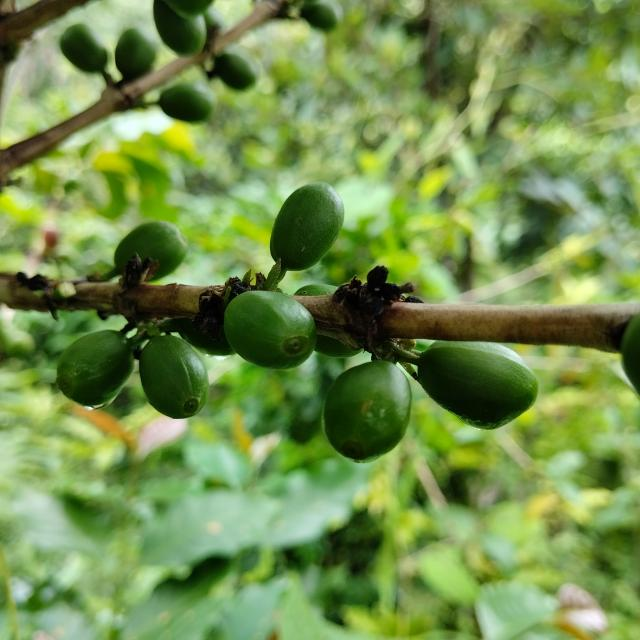Unripe: (322, 360, 412, 463), (418, 341, 539, 417), (224, 291, 317, 370), (270, 182, 344, 270), (55, 330, 134, 409), (138, 335, 209, 419), (113, 220, 187, 280)
